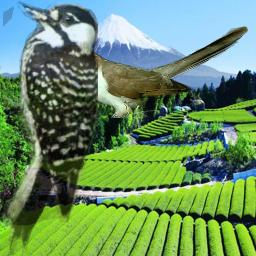Cuckoo: (46, 25, 248, 118)
Woodpecker: (3, 0, 98, 255)
